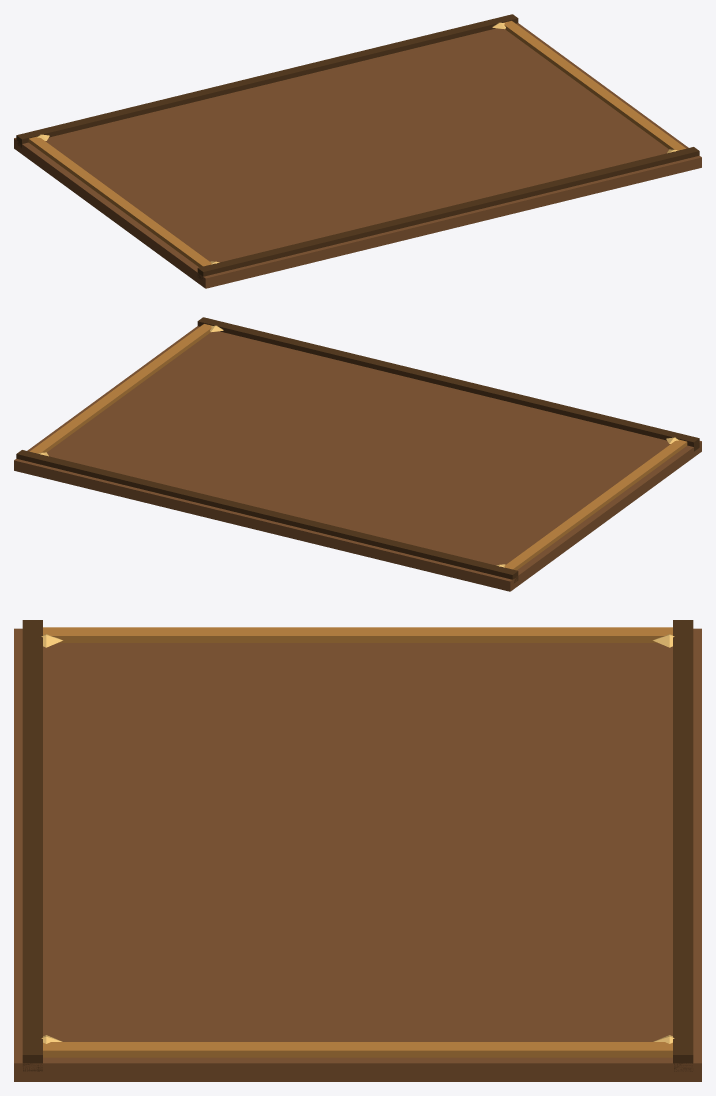
The model's file is mia-ouija.glb.
3 views of the same model, one above another, from view 1: azimuth 30°, elevation 25°; view 2: azimuth 150°, elevation 25°; view 3: azimuth 270°, elevation 25° (orthographic). The views are drawn at different scales.
Visible parts, largest first — view 1: Body_oak, Body_wood, Body_brass; view 2: Body_oak, Body_wood, Body_brass; view 3: Body_oak, Body_brass, Body_wood.
Boxes of the visible parts, x1,y1,x2,y2 form: Body_oak: (14, 23, 701, 288); Body_wood: (16, 14, 699, 279); Body_brass: (28, 21, 685, 267); Body_oak: (14, 326, 701, 591); Body_wood: (16, 317, 699, 582); Body_brass: (30, 324, 687, 570); Body_oak: (14, 628, 701, 1081); Body_brass: (43, 627, 672, 1057); Body_wood: (22, 620, 693, 1071).
Size of the model in its own units: 0.604 by 0.0186 by 0.404.
